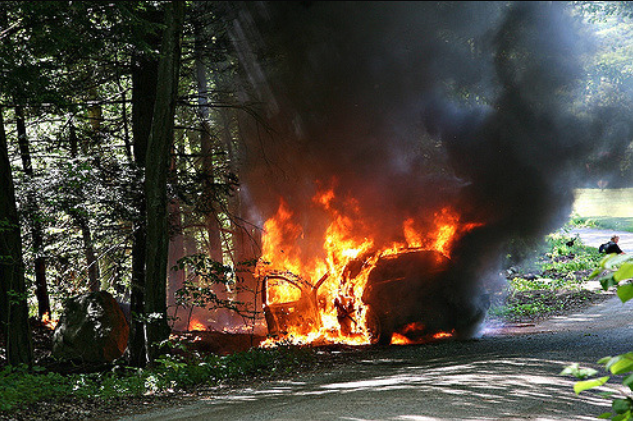fire: (246, 173, 456, 343)
